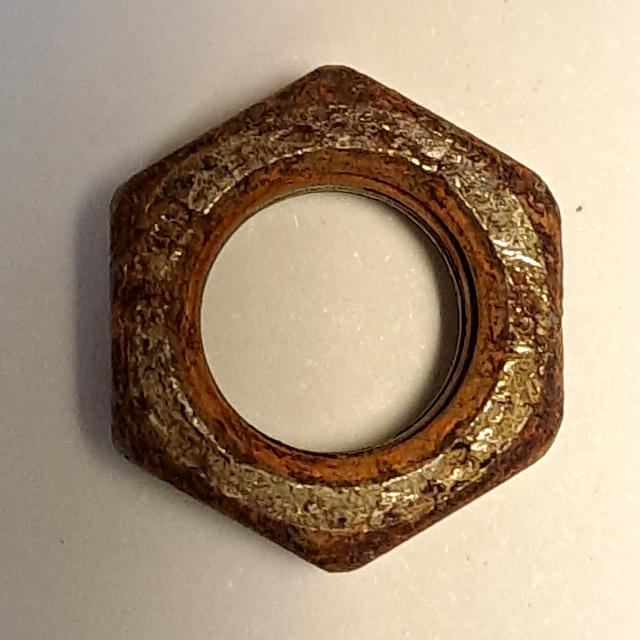Rust: (94, 49, 580, 589)
